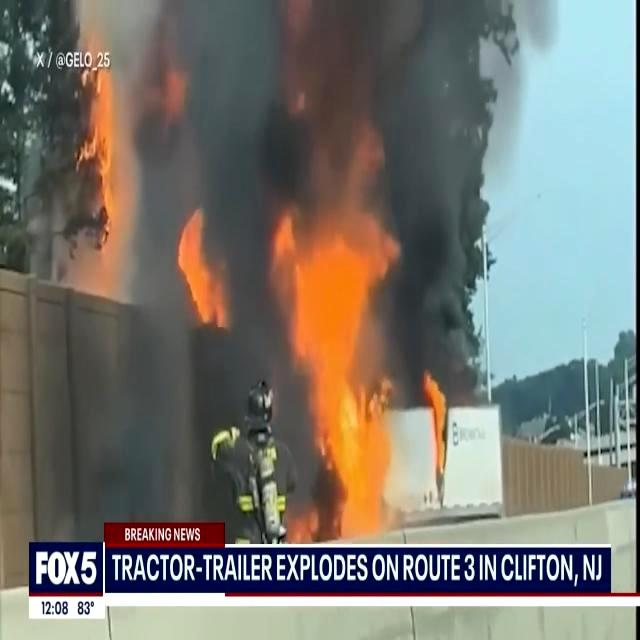fire: (281, 215, 403, 549), (80, 59, 124, 240), (177, 216, 230, 328)
